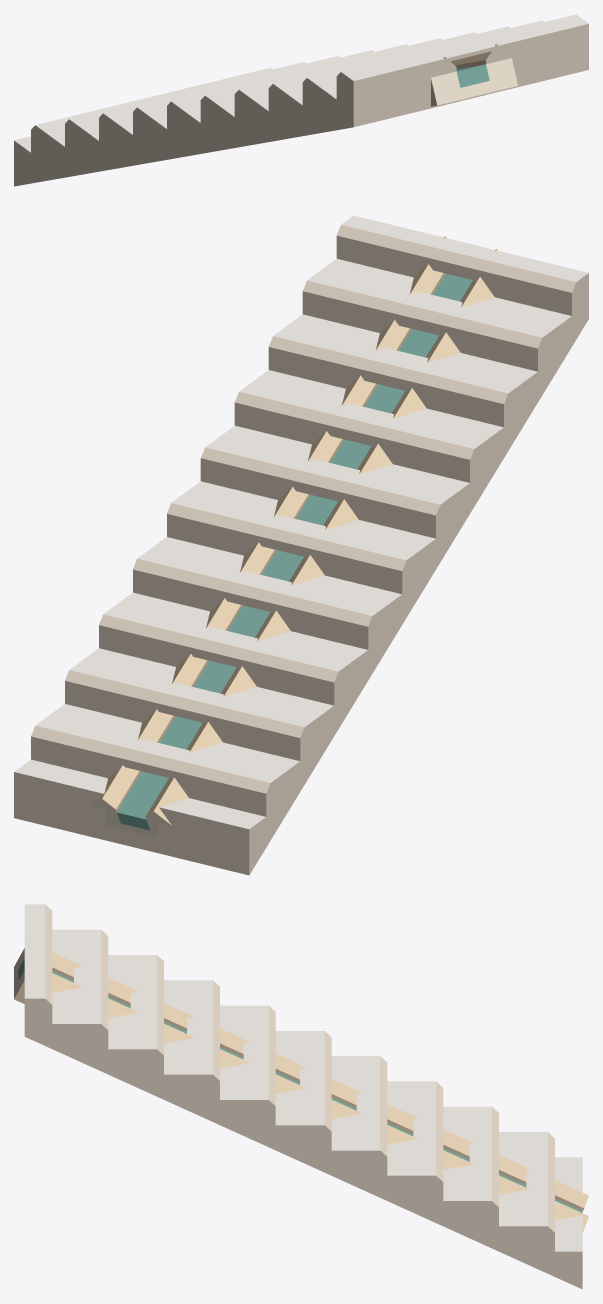
File: Puzzle_Steps_Conduit.glb
3 views of the same model, one above another, from view 1: azimuth 30°, elevation 25°; view 2: azimuth 150°, elevation 25°; view 3: azimuth 270°, elevation 25° (orthographic). The views are drawn at different scales.
Visible parts, largest first — view 1: Puzzle_Steps_Conduit; view 2: Puzzle_Steps_Conduit; view 3: Puzzle_Steps_Conduit.
Part boxes in pixels (x1,y1,x2,y2): Puzzle_Steps_Conduit: (14,14,588,186); Puzzle_Steps_Conduit: (14,215,588,875); Puzzle_Steps_Conduit: (14,904,588,1289).
Size of the model in its own units: 0.8 by 1.16 by 2.06.
